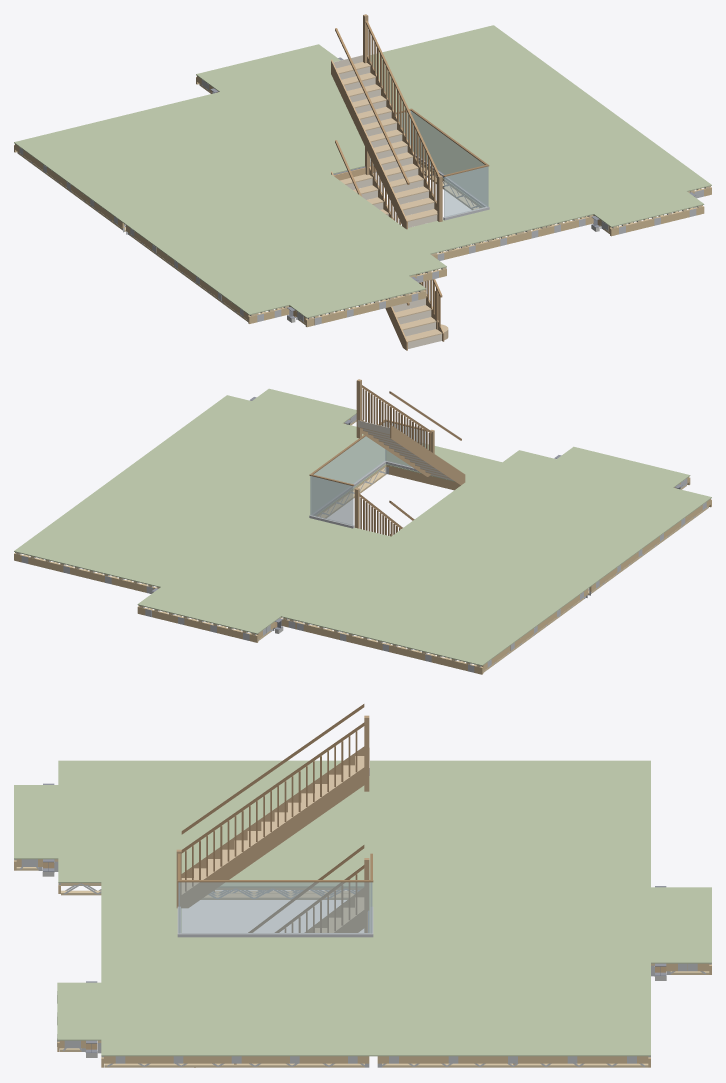
Rendered from stage-3.glb.
3 views of the same model, one above another, from view 1: azimuth 30°, elevation 25°; view 2: azimuth 150°, elevation 25°; view 3: azimuth 270°, elevation 25° (orthographic). The views are drawn at different scales.
Parts seen in each view (by area): view 1: Geom3D (×9); view 2: Geom3D (×10); view 3: Geom3D (×9).
Part boxes in pixels (x1=…): Geom3D (×9): x1=14, y1=14, x2=711, y2=350; Geom3D (×10): x1=14, y1=379, x2=711, y2=674; Geom3D (×9): x1=14, y1=704, x2=711, y2=1067.
Size of the model in its own units: 12.74 by 6.91 by 12.75.
